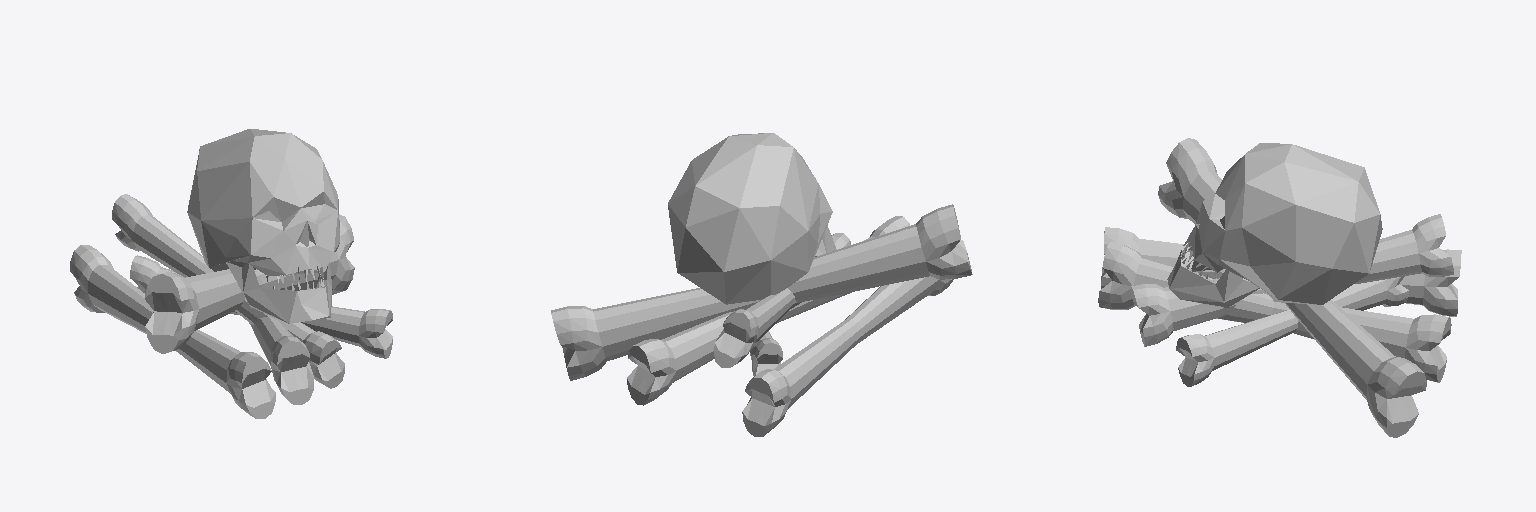
Rendered from bones_1_001.obj.
3 views of the same model, side by side, from view 1: azimuth 30°, elevation 25°; view 2: azimuth 150°, elevation 25°; view 3: azimuth 270°, elevation 25° (orthographic).
Visible parts, largest first — view 1: Cylinder.006_Cylinder.009; view 2: Cylinder.006_Cylinder.009; view 3: Cylinder.006_Cylinder.009.
Boxes of the visible parts, <box> form: Cylinder.006_Cylinder.009: <box>70,129,392,418</box>; Cylinder.006_Cylinder.009: <box>551,133,972,436</box>; Cylinder.006_Cylinder.009: <box>1098,138,1461,437</box>.
Size of the model in its own units: 1.25 by 0.8807 by 1.27.